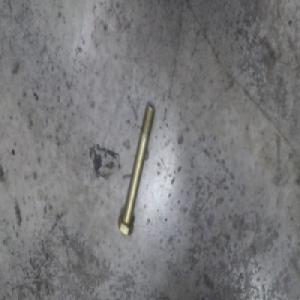Bolt: (118, 97, 156, 237)
